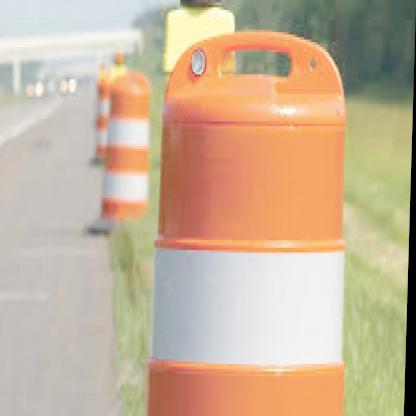obstacle: (147, 34, 357, 414), (94, 77, 153, 233)
